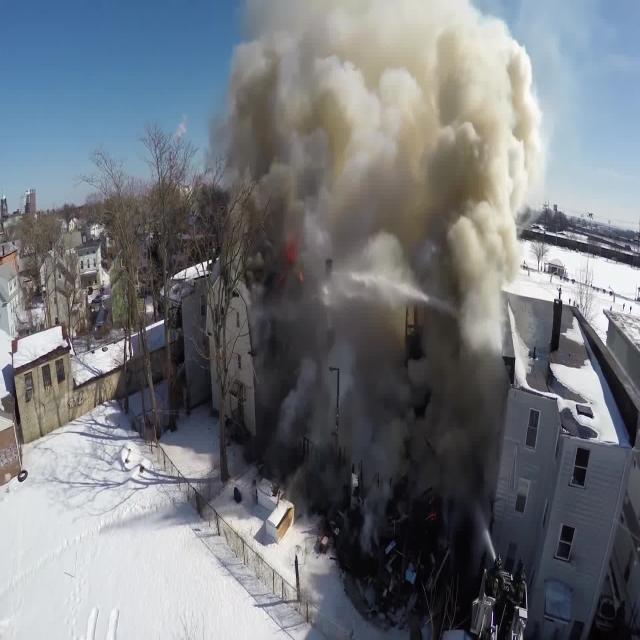Smoke: (194, 8, 540, 592)
